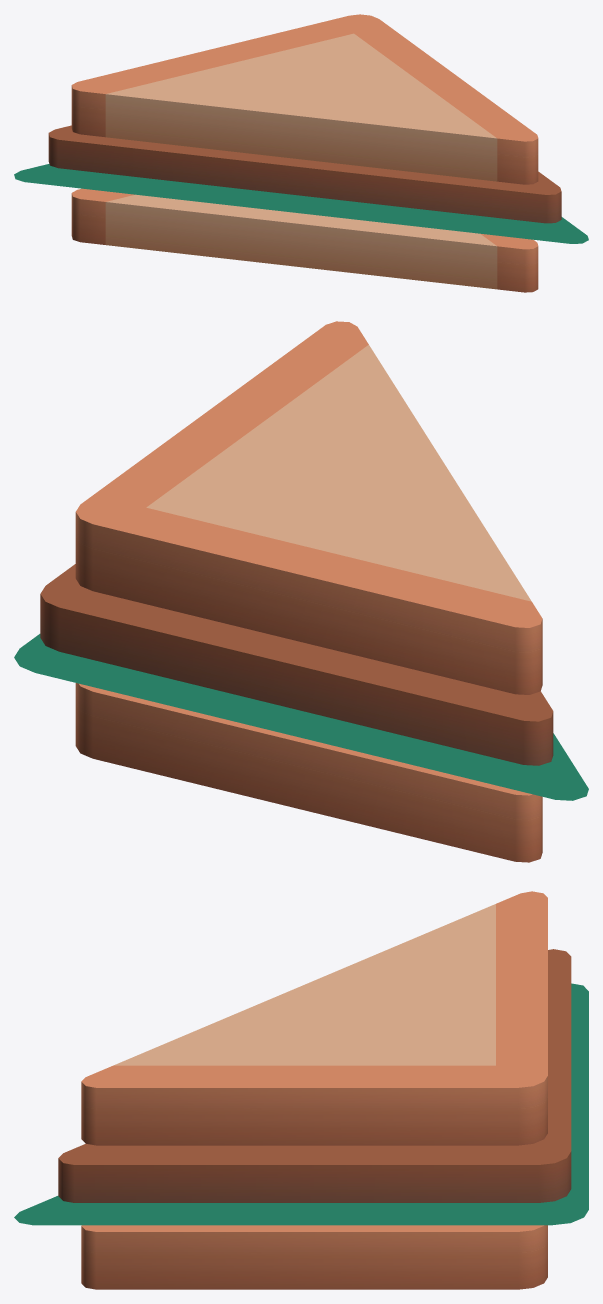
The model's file is sandwich.glb.
3 renders of one model, top to bottom at view 1: azimuth 30°, elevation 25°; view 2: azimuth 150°, elevation 25°; view 3: azimuth 270°, elevation 25°, orthographic. The views are drawn at different scales.
Parts seen in each view (by area): view 1: lettuce; view 2: lettuce; view 3: lettuce.
Boxes of the visible parts, x1,y1,x2,y2 form: lettuce: [14, 14, 588, 292]; lettuce: [14, 321, 588, 862]; lettuce: [14, 891, 588, 1289].
Bounding box in the file's own units: 0.4323 × 0.168 × 0.4339.
Materials: 1 (1 with a texture image).
